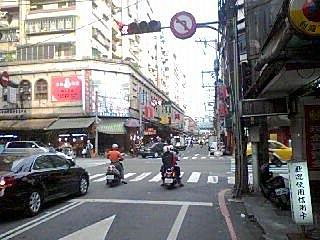car: (0, 152, 92, 215)
motorcycle: (159, 144, 187, 192), (102, 140, 129, 188)
no_left_turn: (169, 10, 195, 38)
